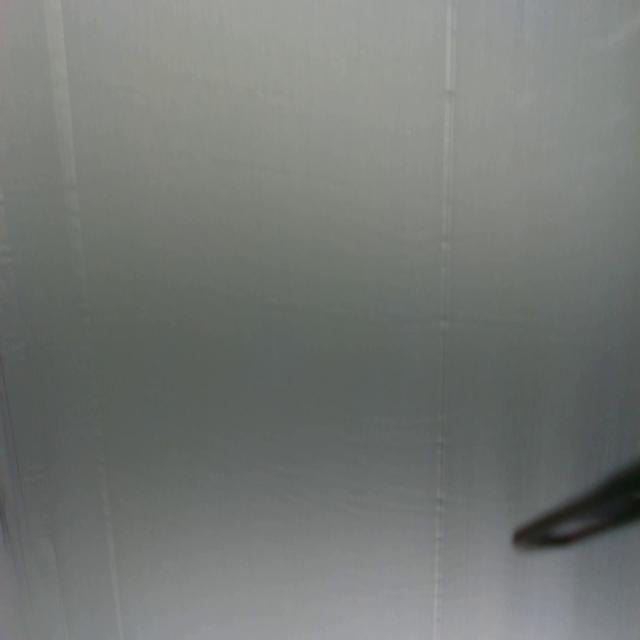crease: (47, 0, 124, 640), (430, 0, 459, 639)
